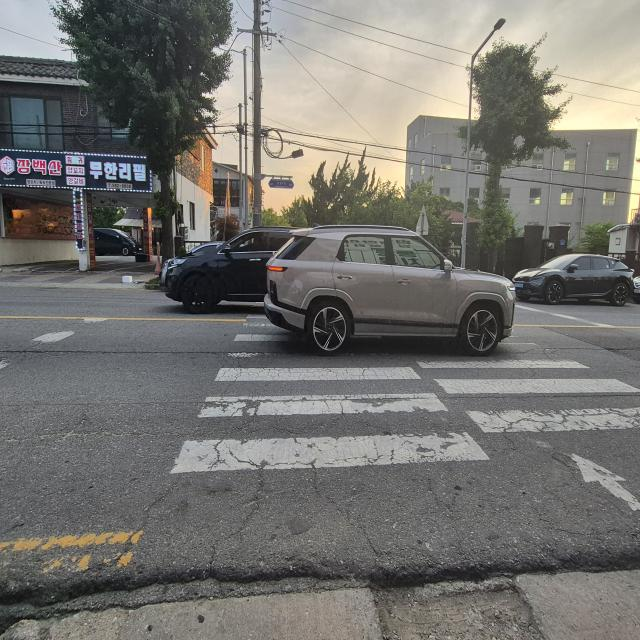car: (261, 205, 515, 358), (163, 220, 298, 303), (508, 254, 636, 307)
